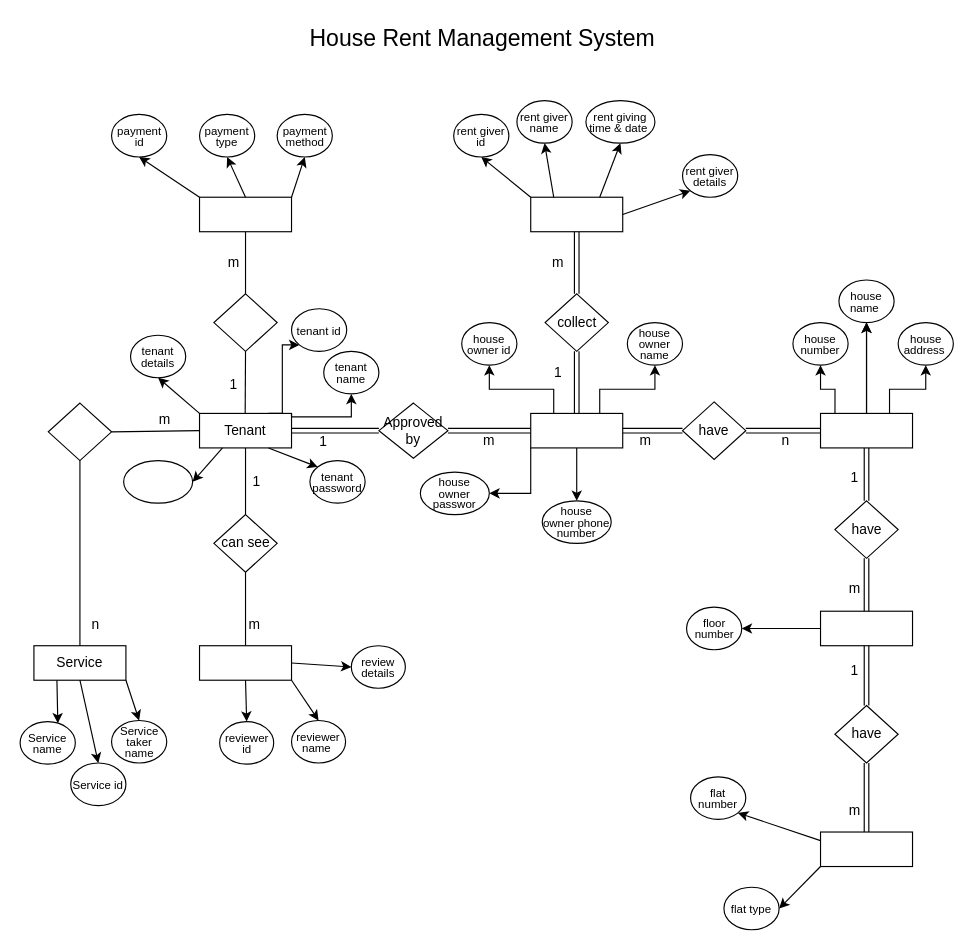
Image size: 974x950. Some labels were removed from this diagram. Here are the shapes that lost their labels. From the top down, the centre of each, then its label:
the point at 245,214: Payment
the point at 576,214: Rent
the point at 245,322: can
the point at 79,431: take
the point at 576,430: House Owner
the point at 866,430: House
the point at 157,481: tenant phone number
the point at 866,628: Floor
the point at 245,662: Reviews & Rating
the point at 866,849: Flat
